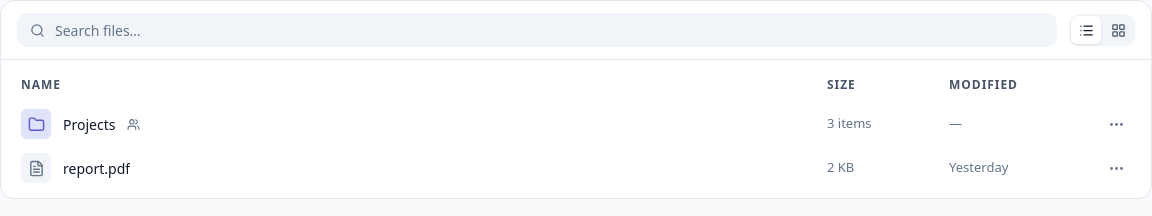
Test: FileManager › filters by name, keeps folders first, and shows the empty state
In the field with placeholder "Search files…": (548, 30) [53, 20, 1044, 40], type "missing"
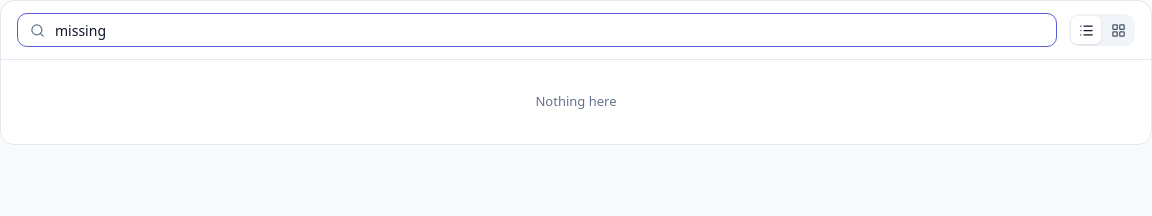
Now the text with class "lyra-fm__empty" reads "Nothing here", box [536, 92, 616, 110]
